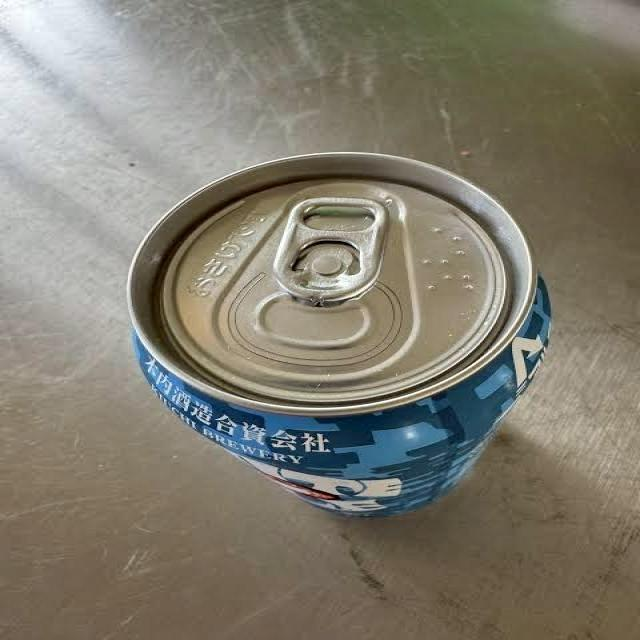can: (121, 148, 547, 522)
